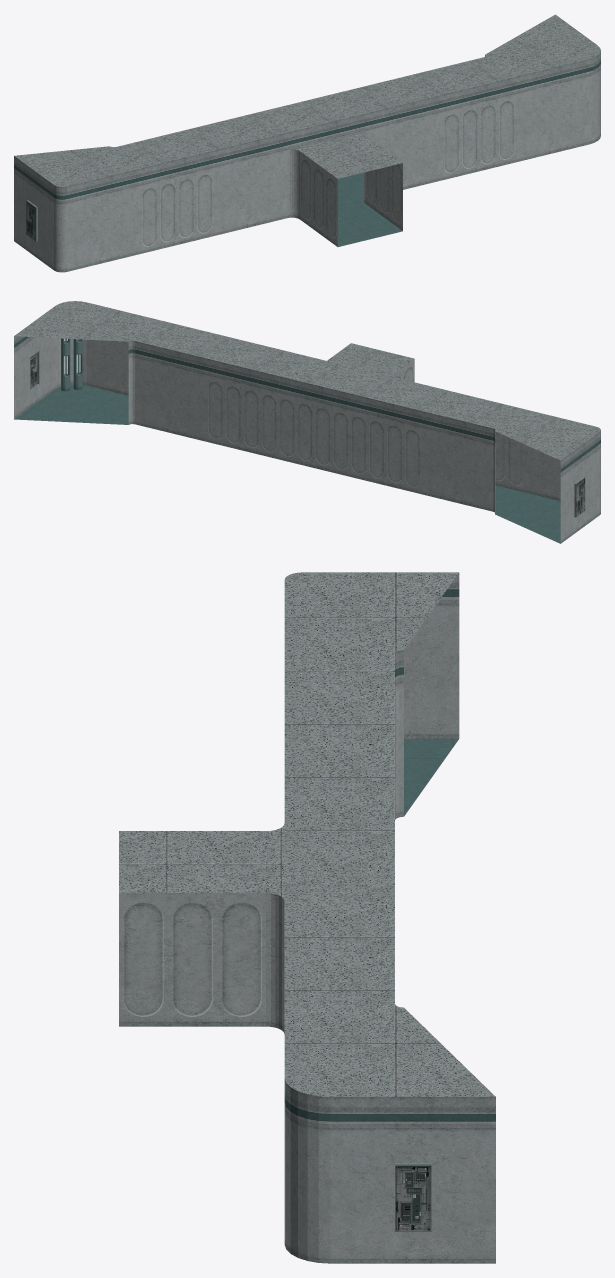
The model's file is mun_corl_hospital_s01_r3_entryb_mesh_r3.fbx.
3 views of the same model, one above another, from view 1: azimuth 30°, elevation 25°; view 2: azimuth 150°, elevation 25°; view 3: azimuth 270°, elevation 25° (orthographic). The views are drawn at different scales.
Visible parts, largest first — view 1: mesh_node; view 2: mesh_node; view 3: mesh_node.
Part boxes in pixels (x1,y1,x2,y2): mesh_node: [14, 14, 600, 272]; mesh_node: [14, 301, 600, 543]; mesh_node: [119, 572, 495, 1263].
Size of the model in its own units: 33.96 by 5 by 10.25.
